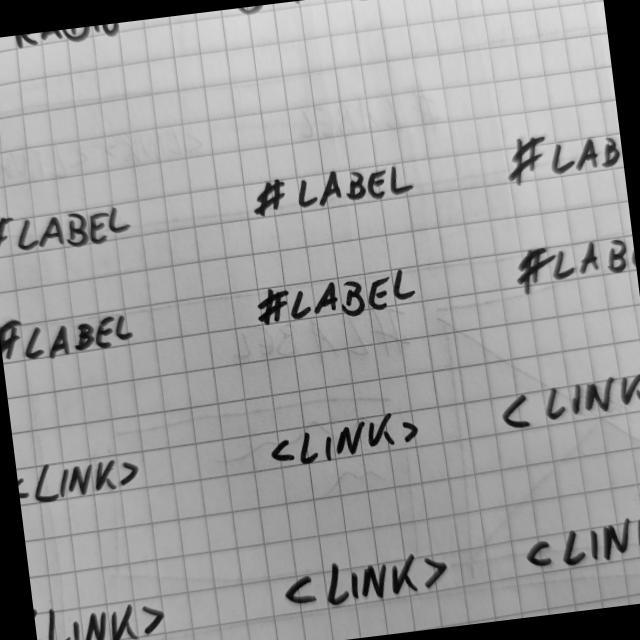label: (250, 259, 424, 332), (246, 155, 417, 224), (0, 193, 138, 266), (0, 300, 143, 368), (498, 118, 624, 192), (508, 228, 638, 298)
link: (277, 544, 453, 618), (264, 402, 424, 474), (492, 366, 640, 433), (15, 446, 147, 511), (519, 511, 640, 577), (32, 586, 170, 640)
